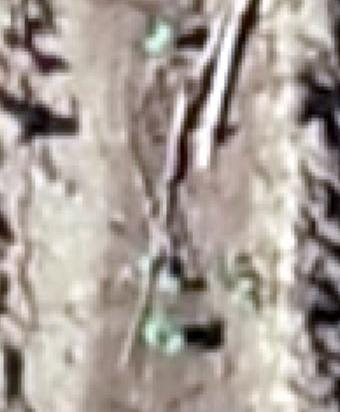cotton: (146, 316, 182, 349), (149, 22, 173, 51)
